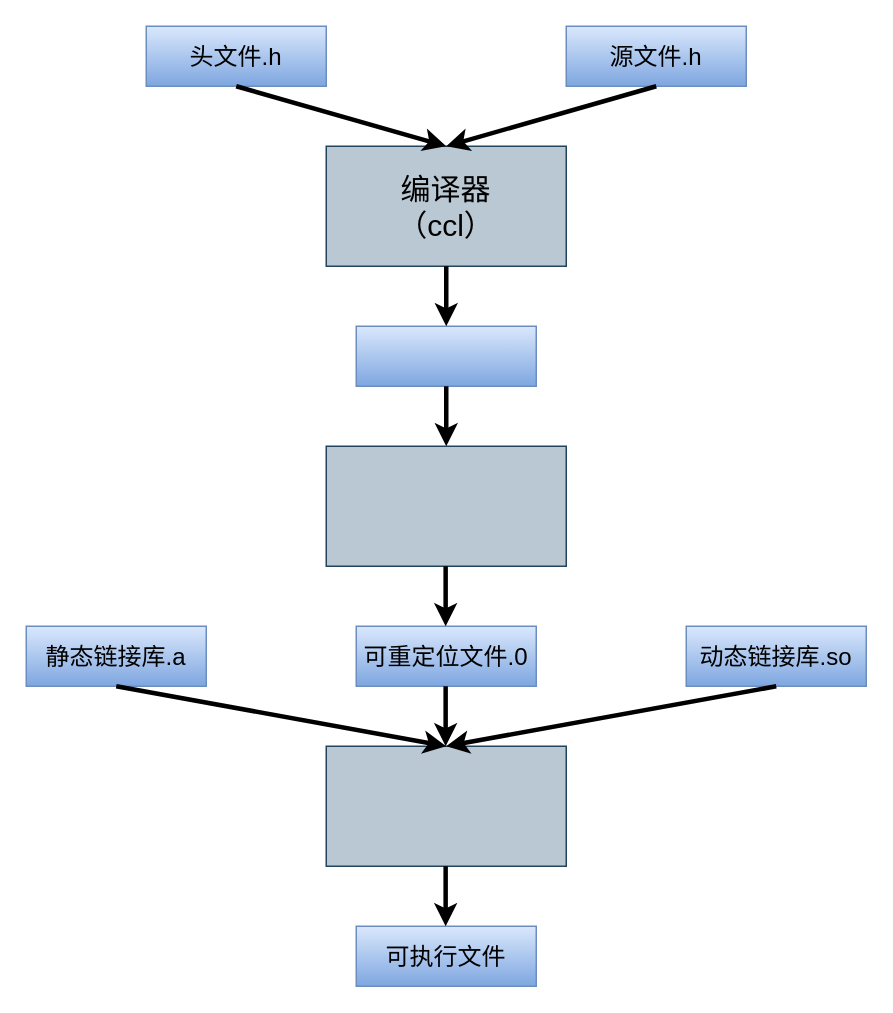
Image size: 893x1013. Some labels were removed from this diagram. Here are the shapes that lost their labels. From the top down, the centre of each, then its label:
At pixel 445 355: "汇编文件.s".
At pixel 445 505: "汇编器 （as）".
At pixel 445 805: "链接器 （ld）".
